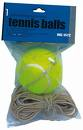tennis ball: (14, 43, 67, 95)
